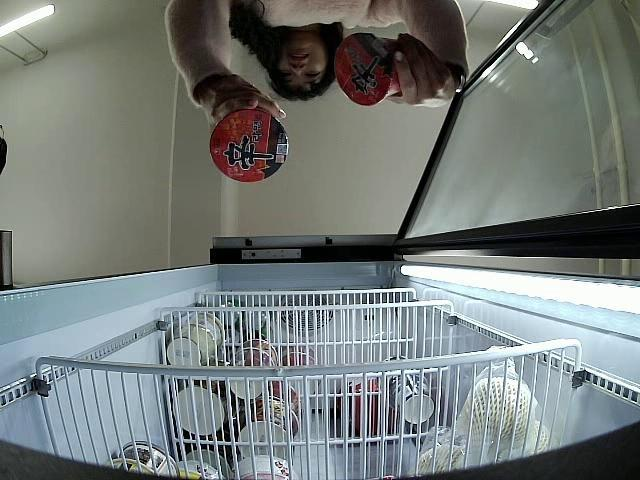02_shinRamen_S: (208, 106, 288, 184), (334, 32, 401, 106)
